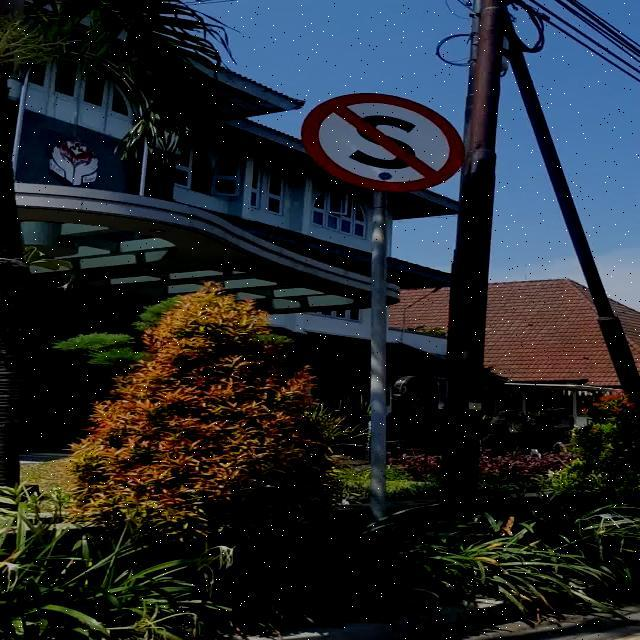Dilarang Berhenti: (302, 93, 465, 192)
